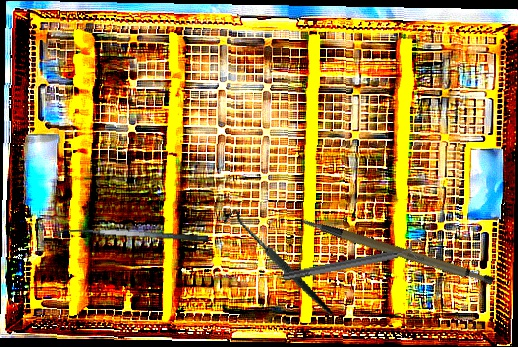Fixation Ring: (281, 237, 426, 288)
Hook Surgical: (221, 191, 333, 338)
Scalpel Handle: (300, 188, 496, 311)
Spatula Surgical: (57, 221, 209, 255)
